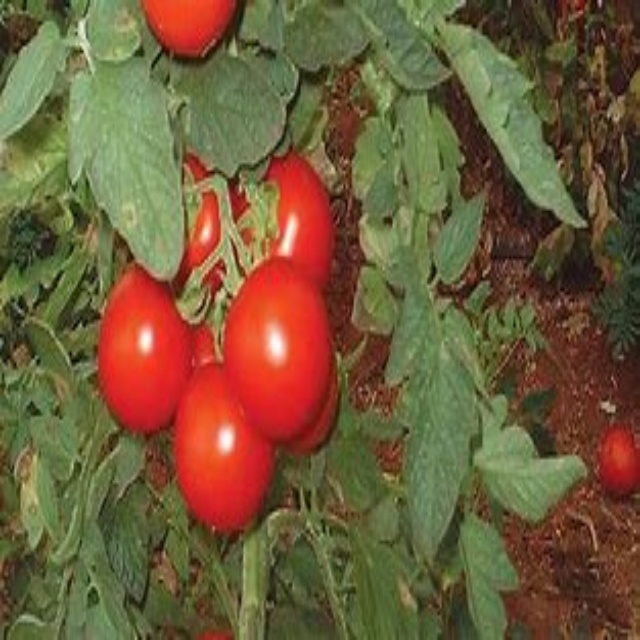tomato: (229, 256, 335, 444), (171, 371, 273, 534), (102, 266, 189, 435), (235, 156, 348, 283), (132, 2, 255, 70)
